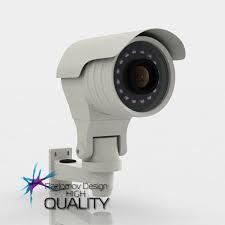tutu: (54, 21, 187, 123)
